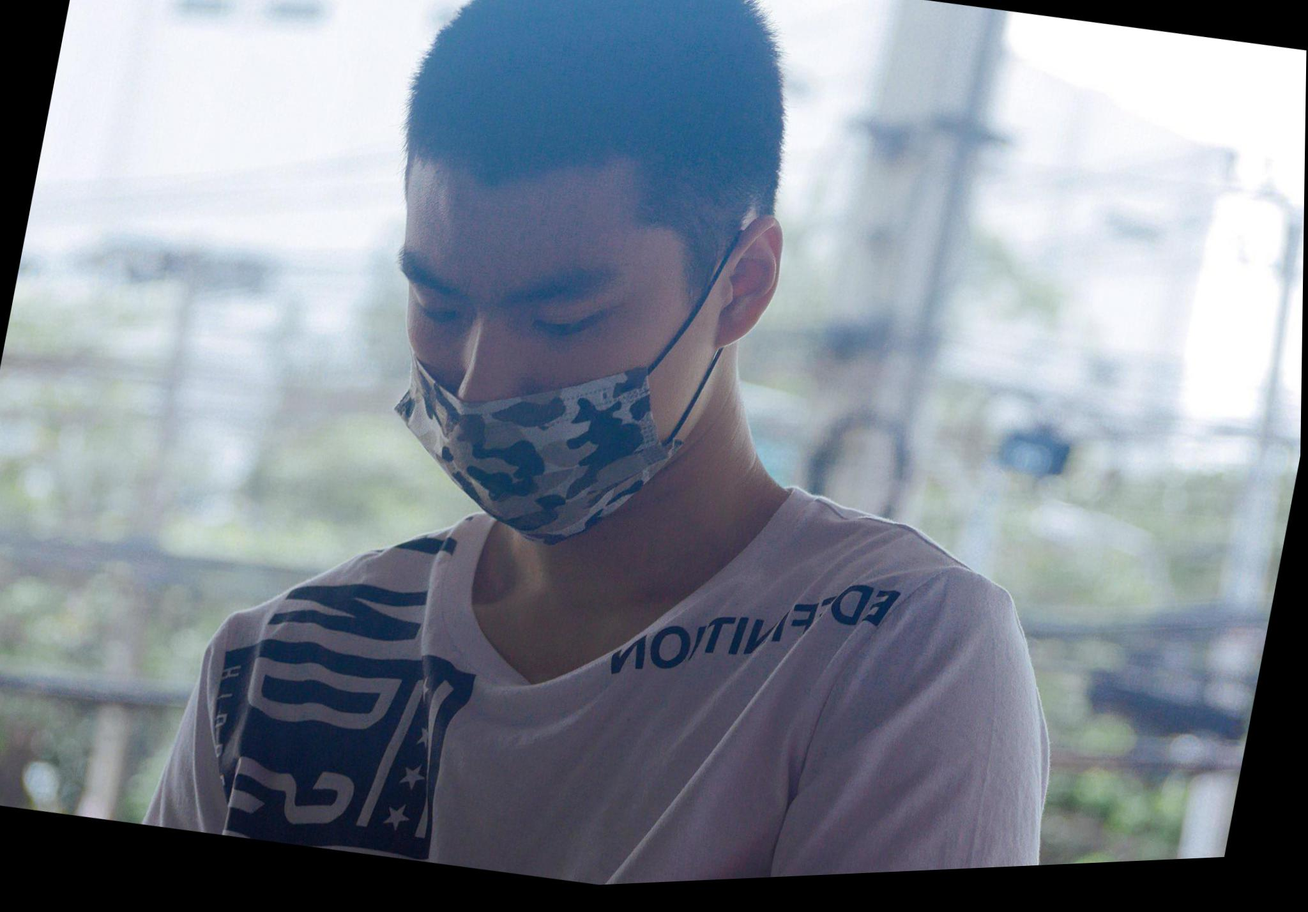WRONG: (361, 205, 713, 575)
